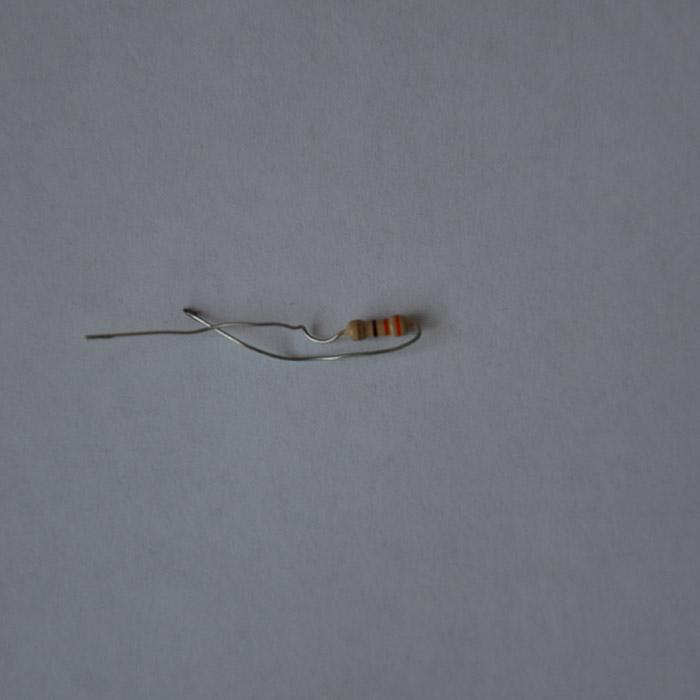resistor: (342, 314, 412, 341)
